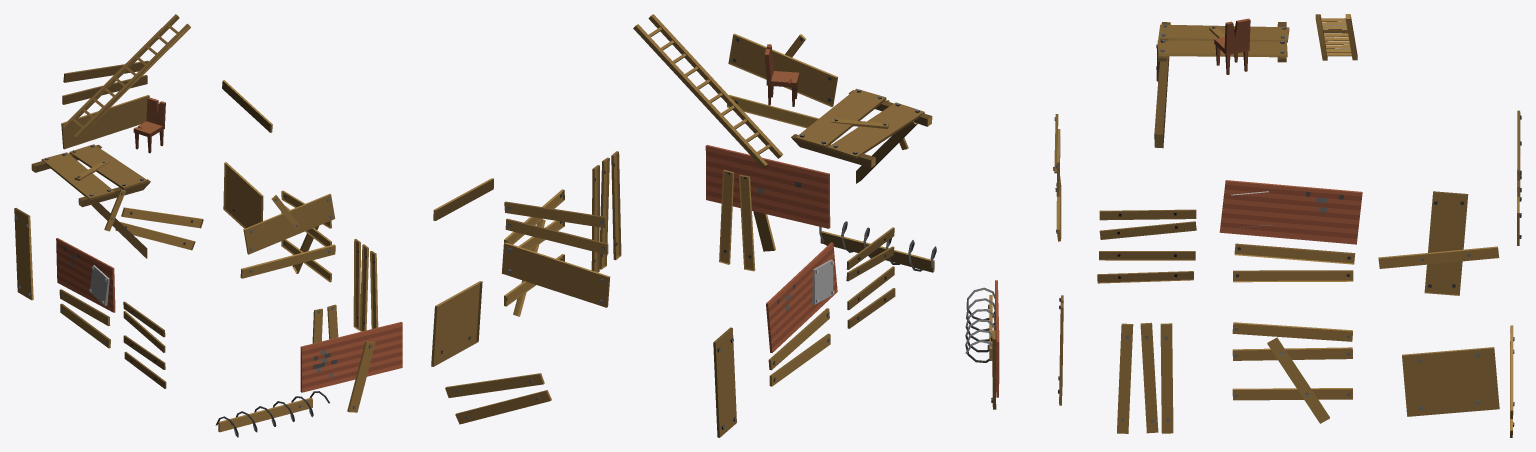
The model's file is SA_Bld_HouseTall_Extras_03.gltf.
3 views of the same model, side by side, from view 1: azimuth 30°, elevation 25°; view 2: azimuth 150°, elevation 25°; view 3: azimuth 270°, elevation 25° (orthographic). The views are drawn at different scales.
Parts seen in each view (by area): view 1: SA_Bld_HouseTall_Extras_03; view 2: SA_Bld_HouseTall_Extras_03; view 3: SA_Bld_HouseTall_Extras_03.
Boxes of the visible parts, left/top/right/bottom form: SA_Bld_HouseTall_Extras_03: left=14, top=14, right=402, bottom=437; SA_Bld_HouseTall_Extras_03: left=431, top=14, right=936, bottom=437; SA_Bld_HouseTall_Extras_03: left=965, top=14, right=1521, bottom=437.
Bounding box in the file's own units: 13.45 × 13.86 × 18.64.
Materials: 1 (1 with a texture image).
